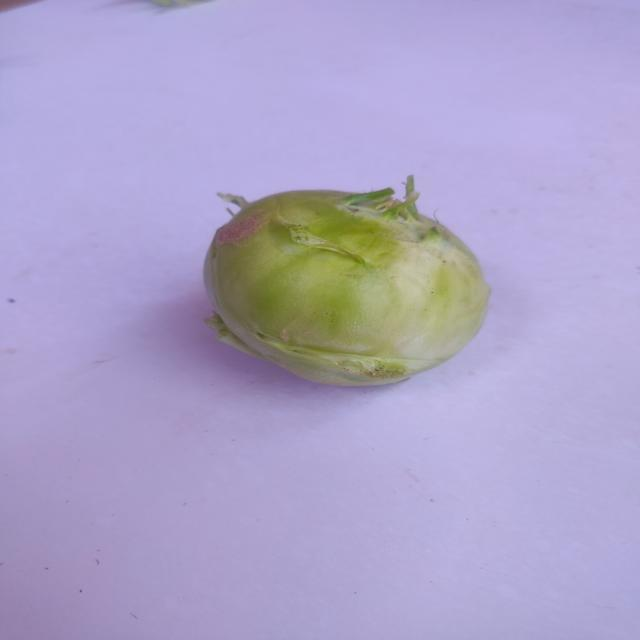Turnip: (182, 157, 511, 399)
